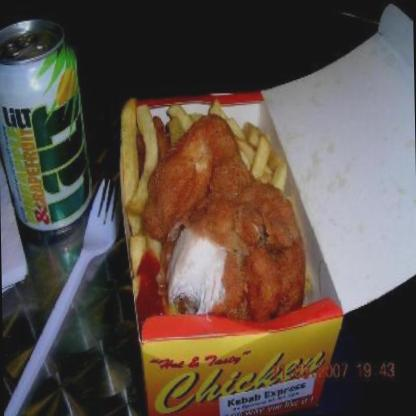alumunium_can: (0, 17, 94, 239)
